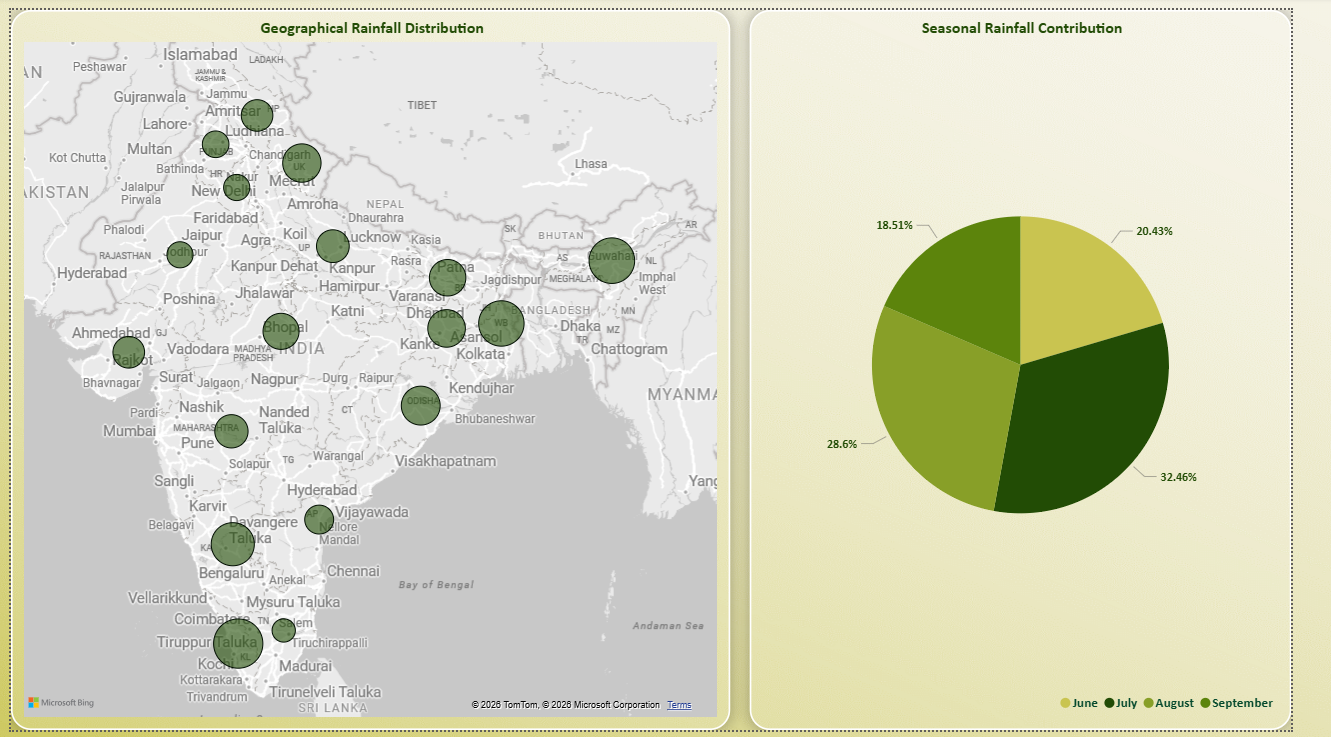

What the dashboard file says about the page in this screenshot:
{"tool":"powerbi","page":{"name":"Seasonal & Geographic Analysis","canvas":[1280,720],"ordinal":3},"visuals":[{"type":"map","title":"Geographical Rainfall Distribution","fields":{"Category":["rain-agriculture.State Name"],"Size":["All_Measure.Total_Rainfall_Meaasure"]},"box":[0,0,719,720.2],"z":0},{"type":"pieChart","title":"Seasonal Rainfall Contribution","fields":{"Y":["Sum(rain-agriculture.JUN)","Sum(rain-agriculture.JUL)","Sum(rain-agriculture.AUG)","Sum(rain-agriculture.SEP)"]},"box":[738.6,0,541.7,720.2],"z":1000}]}

Visuals, with their boxes in screenshot pixels (x1, y1, x2, y2), scaled from the page's 1280x720 canvas onto the 1331x737 screenshot:
"Geographical Rainfall Distribution" map: <box>0,0,748,736</box>
"Seasonal Rainfall Contribution" pieChart: <box>768,0,1330,736</box>
